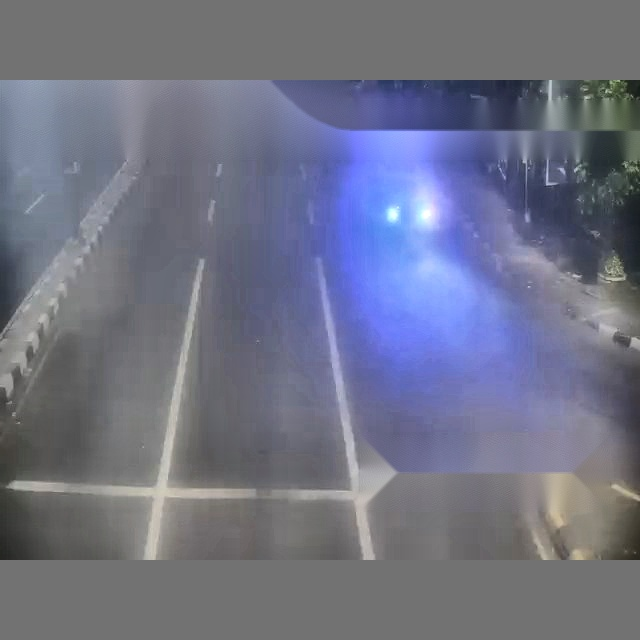Bis: (98, 88, 635, 552)
